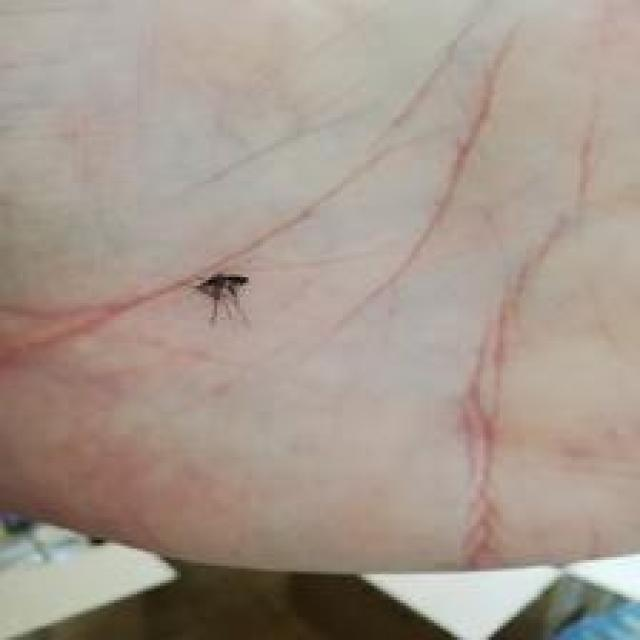Aedes albopictus: (193, 270, 250, 324)
